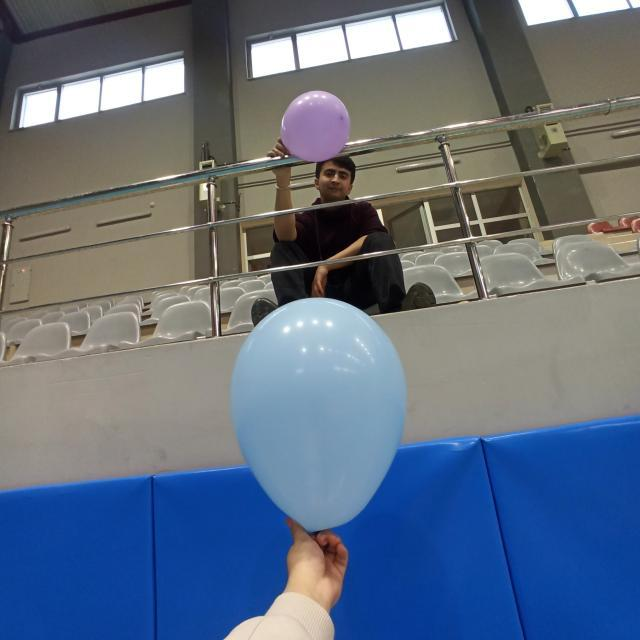balloon: (228, 296, 408, 536), (280, 91, 350, 164)
